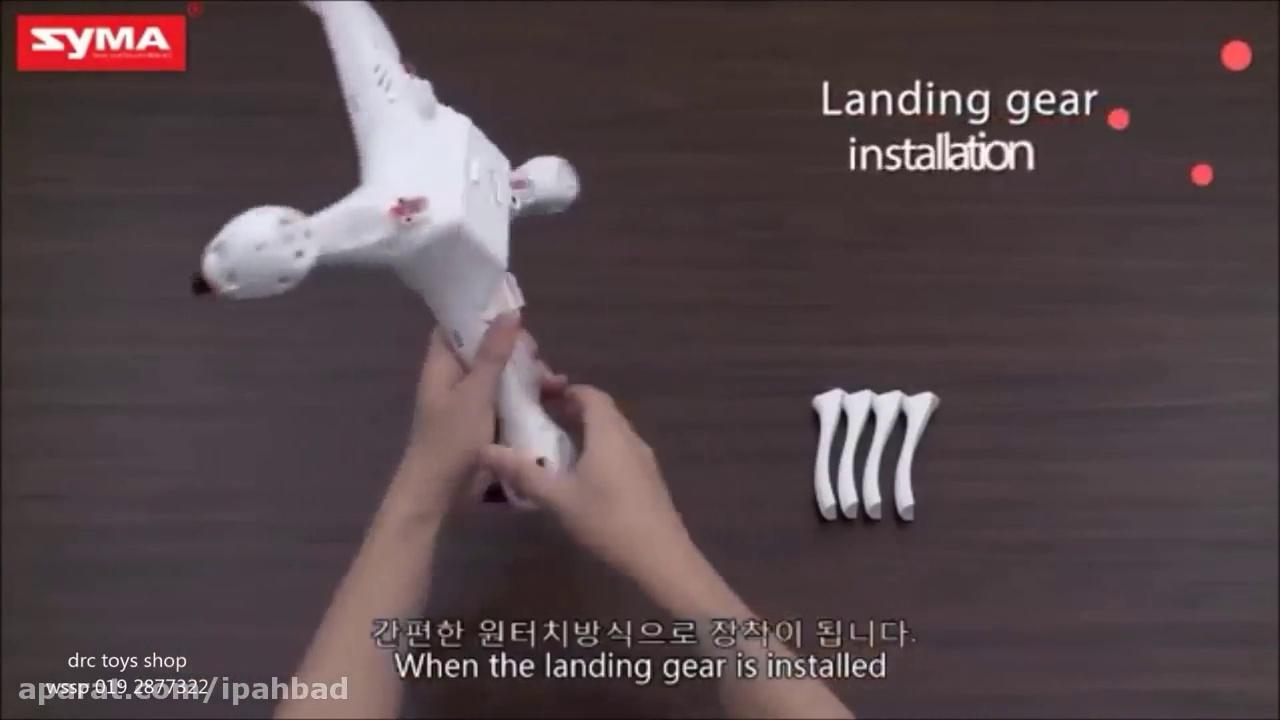drone: (173, 0, 590, 475)
